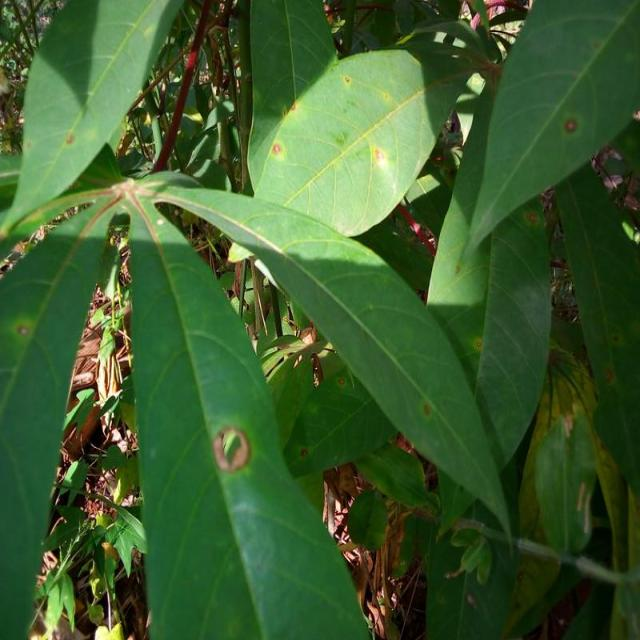cassava leaf: (2, 0, 639, 638), (127, 187, 374, 638), (463, 0, 640, 262), (2, 0, 185, 243), (248, 43, 463, 238)
